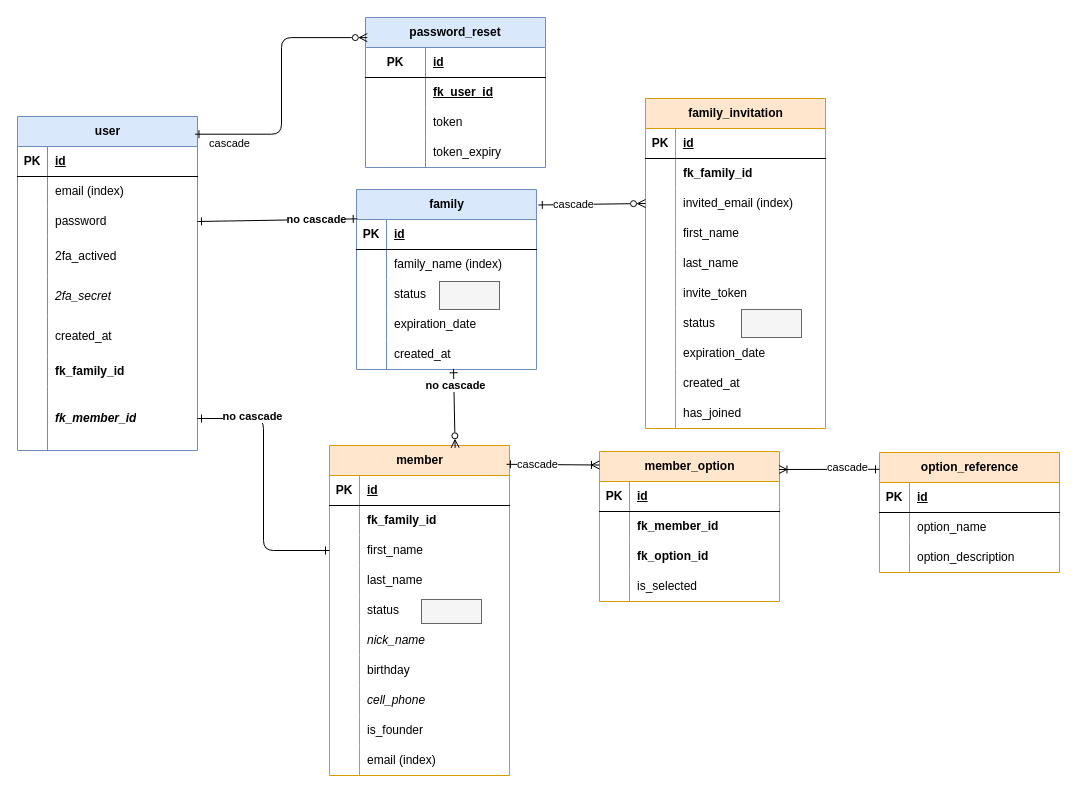
Image size: 1077x793. Some labels were removed from this diagram. Each missing label, with the centre of its shape:
active, resigned: the point at 451,611
invited, joined, declined, resent: the point at 771,323
trial, active, expired: the point at 469,295
